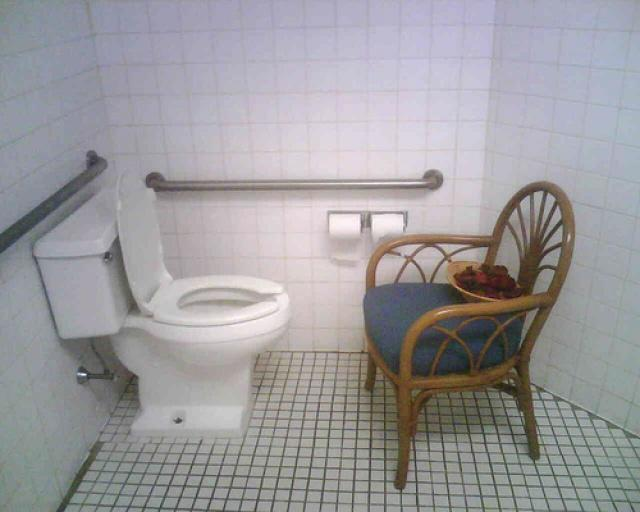Kursi: (360, 180, 576, 489)
